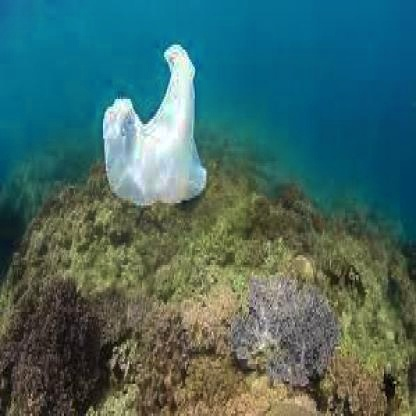pbag: (102, 42, 207, 211)
